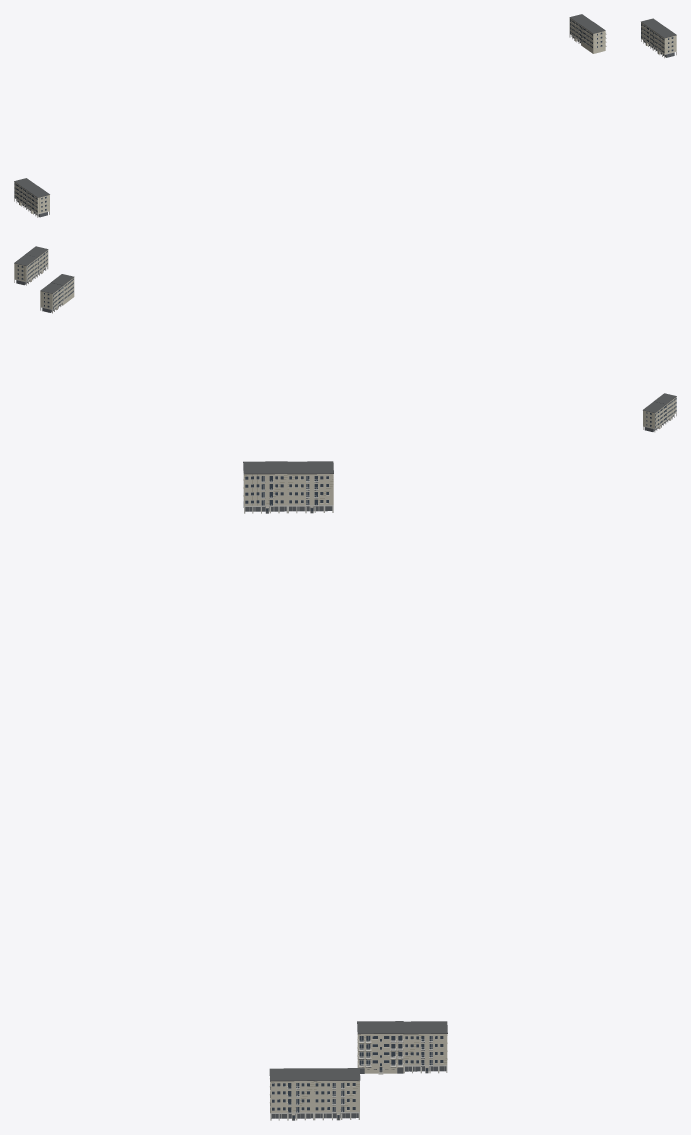
The model's file is comenius-baked-2.glb.
3 renders of one model, top to bottom at view 1: azimuth 30°, elevation 25°; view 2: azimuth 150°, elevation 25°; view 3: azimuth 270°, elevation 25°, orthographic. The views are drawn at different scales.
Parts seen in each view (by area): view 1: nw-pilotis-panel-flat-0363100012061545, nw-pilotis-centre-panel-flat-0363100012080995, nw-pilotis-centre-panel-flat-0363100012134825, nw-pilotis-centre-panel-flat-0363100012124255, nw-pilotis-centre-panel-flat-0363100012078925, nw-pilotis-centre-panel-flat-0363100012136034; view 2: nw-pilotis-centre-panel-flat-0363100012136034, nw-pilotis-centre-panel-flat-0363100012078925, nw-pilotis-centre-panel-flat-0363100012124255, nw-pilotis-panel-flat-0363100012061545, nw-pilotis-centre-panel-flat-0363100012134825, nw-pilotis-centre-panel-flat-0363100012080995; view 3: nw-pilotis-panel-flat-0363100012061545, nw-pilotis-centre-panel-flat-0363100012124255, nw-pilotis-centre-panel-flat-0363100012136034, nw-pilotis-centre-panel-flat-0363100012080995, nw-pilotis-centre-panel-flat-0363100012134825, nw-pilotis-centre-panel-flat-0363100012078925.
Part boxes in pixels (x1,y1,x2,y2): nw-pilotis-panel-flat-0363100012061545: (581,22,606,53); nw-pilotis-centre-panel-flat-0363100012080995: (26,186,49,217); nw-pilotis-centre-panel-flat-0363100012134825: (653,27,676,58); nw-pilotis-centre-panel-flat-0363100012124255: (14,178,37,209); nw-pilotis-centre-panel-flat-0363100012078925: (569,14,592,45); nw-pilotis-centre-panel-flat-0363100012136034: (641,18,664,49); nw-pilotis-centre-panel-flat-0363100012136034: (14,254,37,285); nw-pilotis-centre-panel-flat-0363100012078925: (40,283,63,313); nw-pilotis-centre-panel-flat-0363100012124255: (643,401,665,432); nw-pilotis-panel-flat-0363100012061545: (51,274,74,304); nw-pilotis-centre-panel-flat-0363100012134825: (25,246,48,276); nw-pilotis-centre-panel-flat-0363100012080995: (654,393,676,423); nw-pilotis-panel-flat-0363100012061545: (357,1021,404,1074); nw-pilotis-centre-panel-flat-0363100012124255: (287,461,333,513); nw-pilotis-centre-panel-flat-0363100012136034: (314,1068,360,1120); nw-pilotis-centre-panel-flat-0363100012080995: (243,461,287,513); nw-pilotis-centre-panel-flat-0363100012134825: (269,1068,314,1120); nw-pilotis-centre-panel-flat-0363100012078925: (403,1021,447,1073).
Size of the model in its own units: 516 by 15.66 by 71.93.
